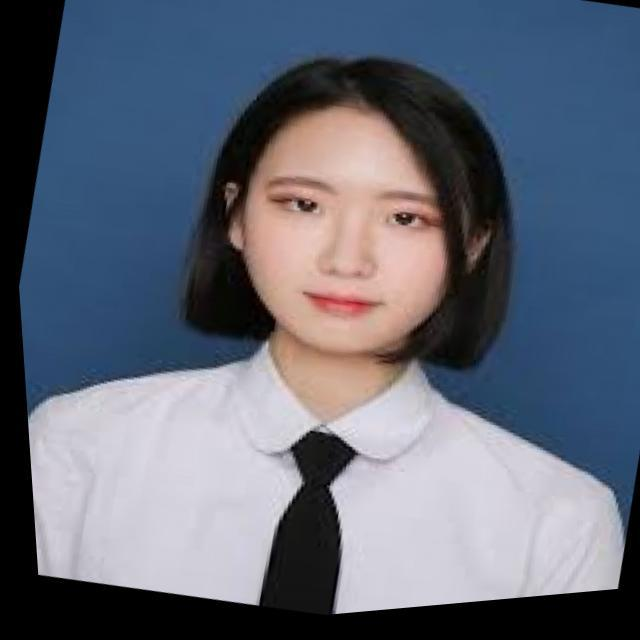Nonhelmet: (177, 50, 519, 370)
